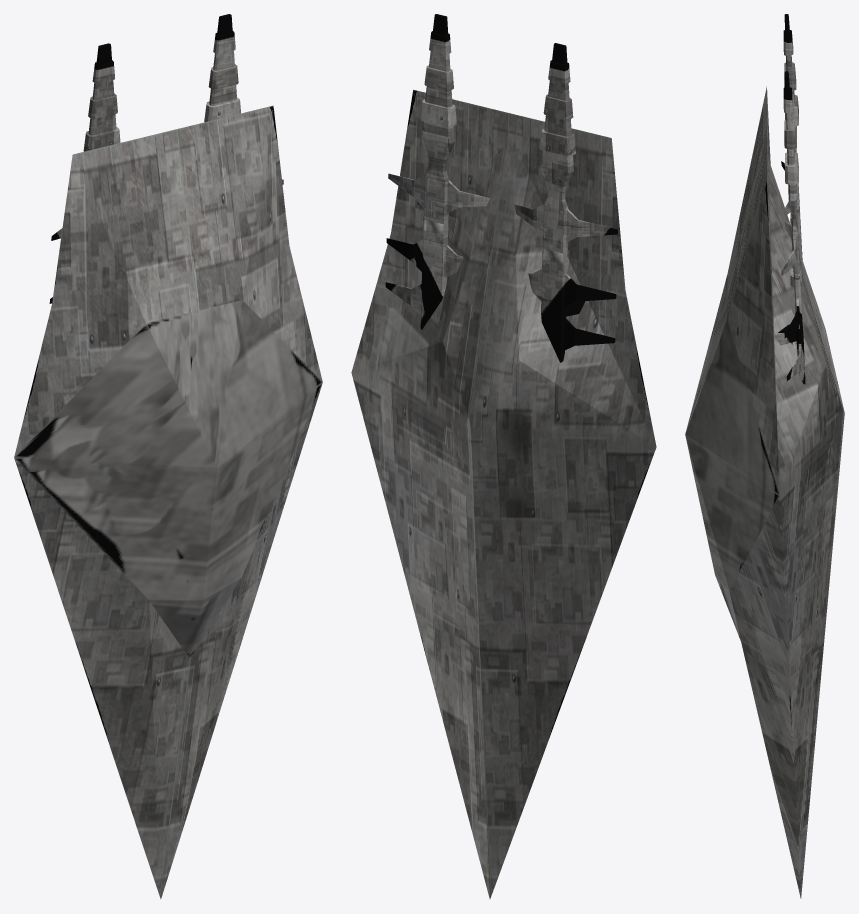
The model's file is wing_open_2.fbx.
3 views of the same model, side by side, from view 1: azimuth 30°, elevation 25°; view 2: azimuth 150°, elevation 25°; view 3: azimuth 270°, elevation 25° (orthographic). The views are drawn at different scales.
Parts seen in each view (by area): view 1: polySurface3283, polySurface3233, polySurface3302; view 2: polySurface3283, polySurface3302; view 3: polySurface3283, polySurface3233, polySurface3302.
Boxes of the visible parts, x1,y1,x2,y2 form: polySurface3283: (14,105,322,899); polySurface3233: (14,300,322,658); polySurface3302: (49,14,283,303); polySurface3283: (351,89,656,899); polySurface3302: (385,14,617,362); polySurface3283: (727,86,844,898); polySurface3233: (685,275,779,640); polySurface3302: (774,14,805,384).
Bounding box in the file's own units: 3.92 × 10.62 × 1.8.
2 materials, 1 textured.
